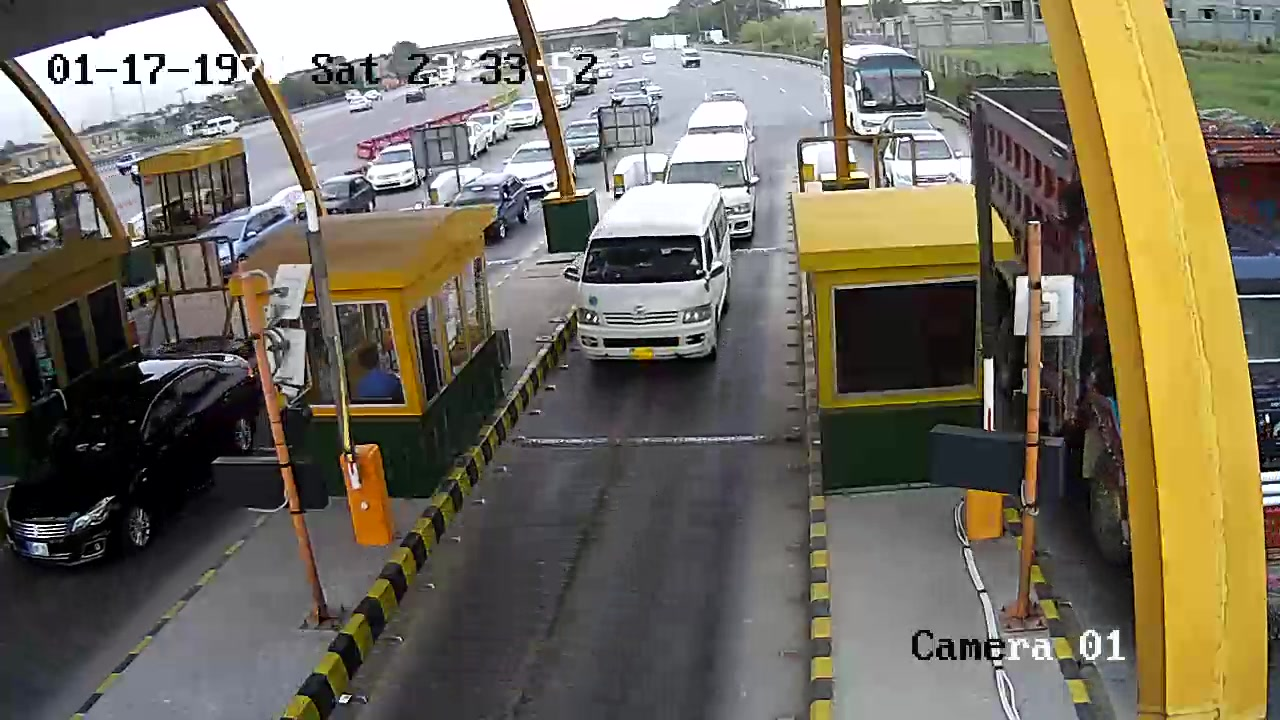F3: (577, 174, 733, 368)
